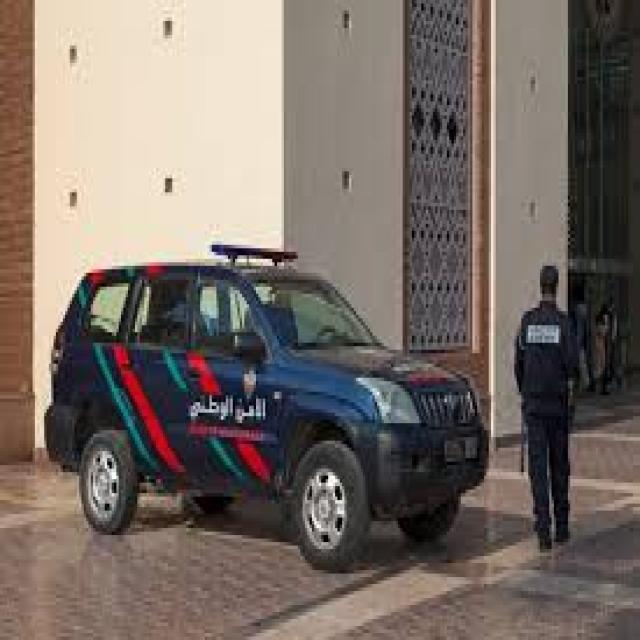Police car: (41, 228, 497, 588)
